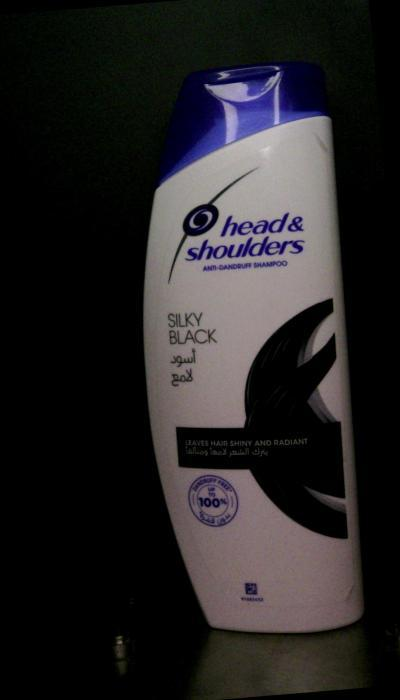adhesion_marg: (312, 128, 330, 155), (340, 581, 359, 604)
